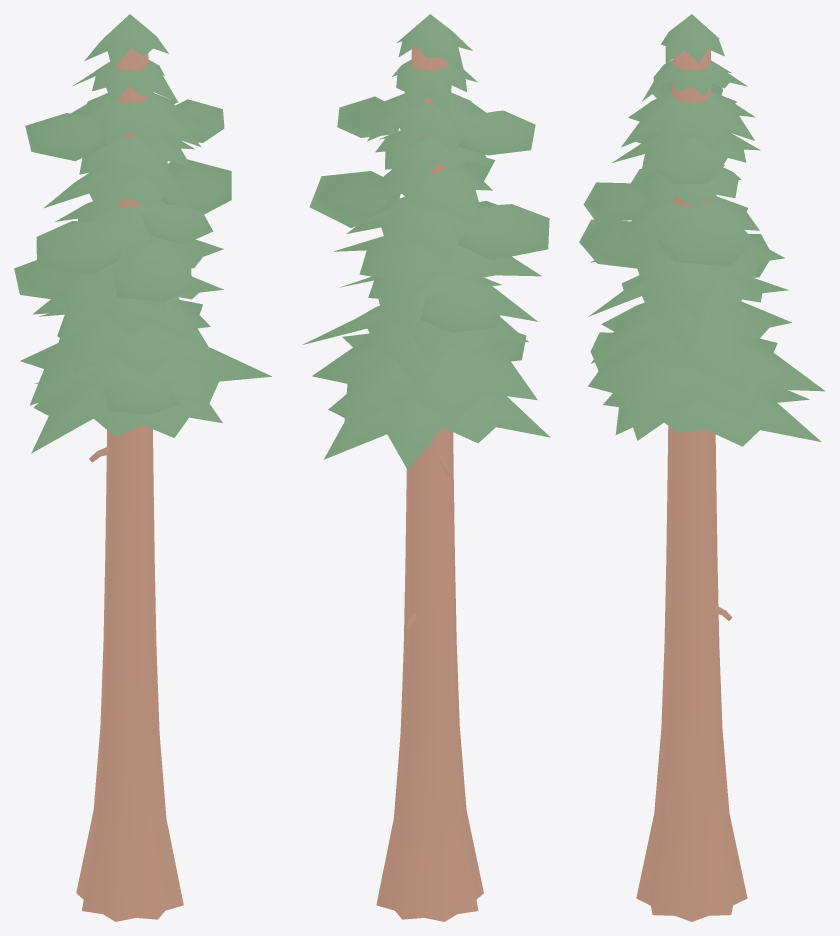
Rendered from Blender_Redwood_2_Far.glb.
The picture shows the model from 3 angles, left to right: view 1: azimuth 30°, elevation 25°; view 2: azimuth 150°, elevation 25°; view 3: azimuth 270°, elevation 25°; orthographic projection.
Visible parts, largest first — view 1: Blender_Redwood_2_Far; view 2: Blender_Redwood_2_Far; view 3: Blender_Redwood_2_Far.
Part boxes in pixels (left/top/right/bottom): Blender_Redwood_2_Far: left=14, top=14, right=271, bottom=921; Blender_Redwood_2_Far: left=302, top=14, right=550, bottom=921; Blender_Redwood_2_Far: left=579, top=14, right=825, bottom=921.
Bounding box in the file's own units: 23.96 × 89.93 × 22.74.
